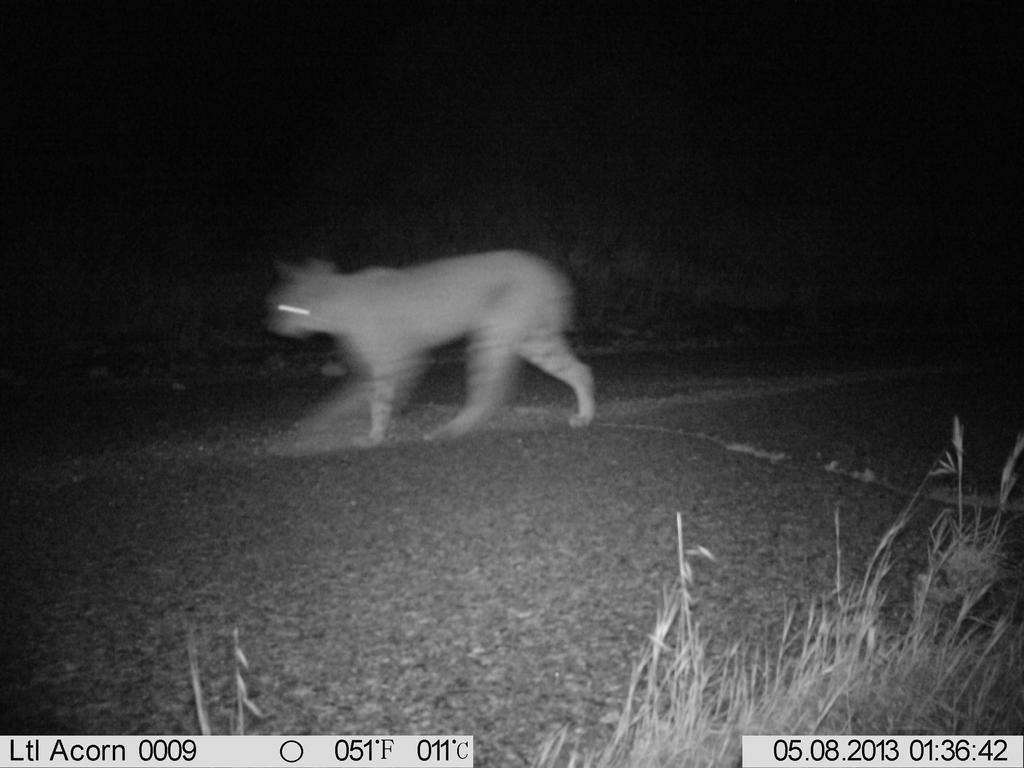bobcat: (256, 238, 617, 460)
